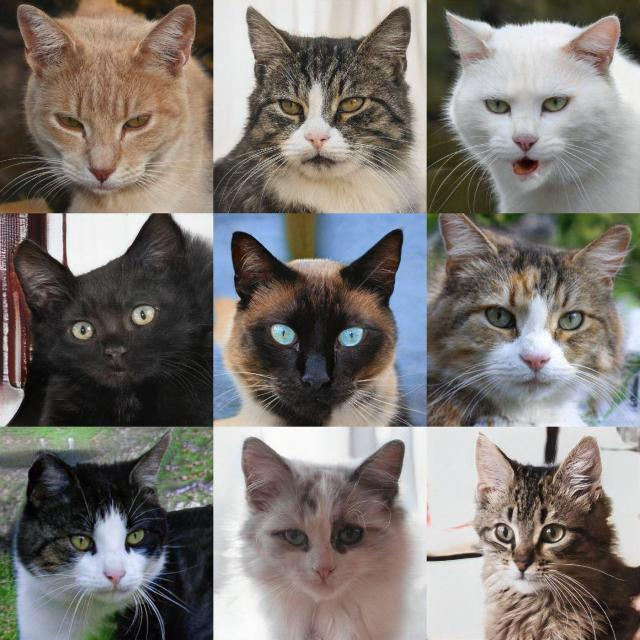Cat: (7, 0, 204, 199), (437, 218, 633, 416), (437, 7, 629, 200), (223, 224, 411, 414), (236, 2, 416, 196), (8, 221, 196, 399), (234, 431, 414, 609), (11, 431, 182, 618), (467, 428, 614, 604)
